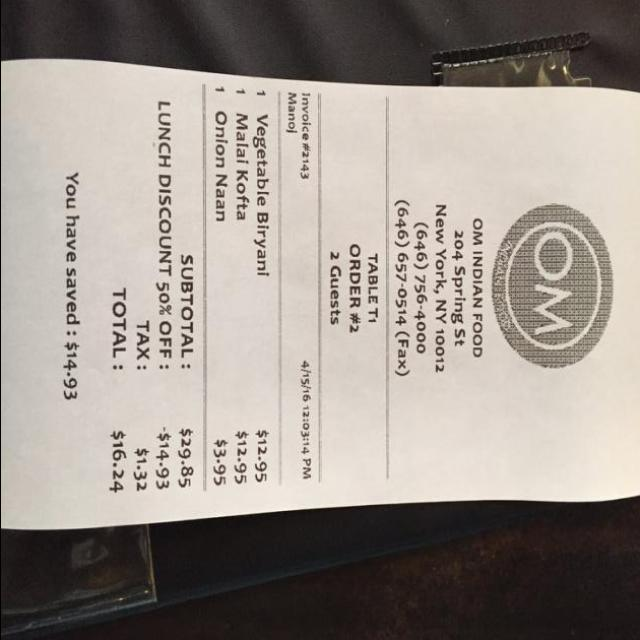kertas: (0, 60, 640, 530)
